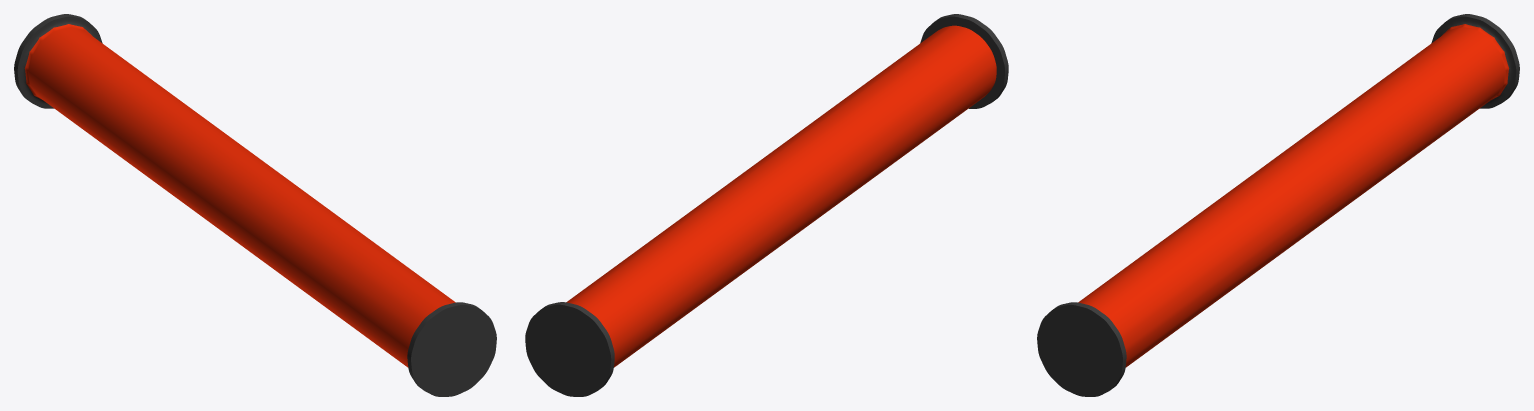
Rendered from S_assete_tube_1.fbx.
The picture shows the model from 3 angles, left to right: view 1: azimuth 30°, elevation 25°; view 2: azimuth 150°, elevation 25°; view 3: azimuth 330°, elevation 25°; orthographic projection.
Parts seen in each view (by area): view 1: S_basement_tube_1; view 2: S_basement_tube_1; view 3: S_basement_tube_1.
Boxes of the visible parts, x1,y1,x2,y2 form: S_basement_tube_1: [14, 14, 496, 396]; S_basement_tube_1: [525, 14, 1008, 396]; S_basement_tube_1: [1037, 14, 1519, 396].
Bounding box in the file's own units: 24.98 × 25.03 × 200.
